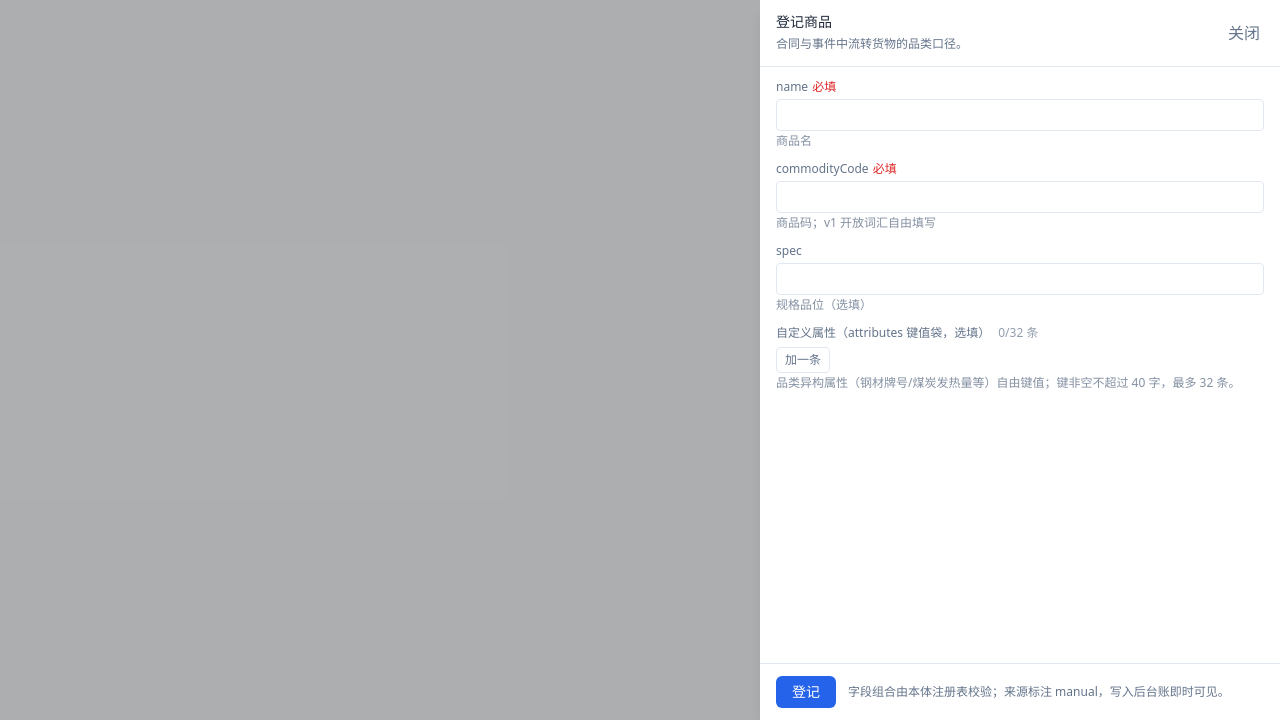
Test: MasterDataDrawer › 自定义属性键值编辑区：增行填键值提交并入 payload.attributes，删行剔除
Type "螺纹钢" into the field named "name必填". click: (1020, 115)
box: x1=776 y1=99 x2=1264 y2=131
Type "HRB400E" into the field named "commodityCode必填". click: (1020, 197)
box: x1=776 y1=181 x2=1264 y2=213
Click the button "加一条". click: click(803, 360)
box: x1=776 y1=347 x2=830 y2=373
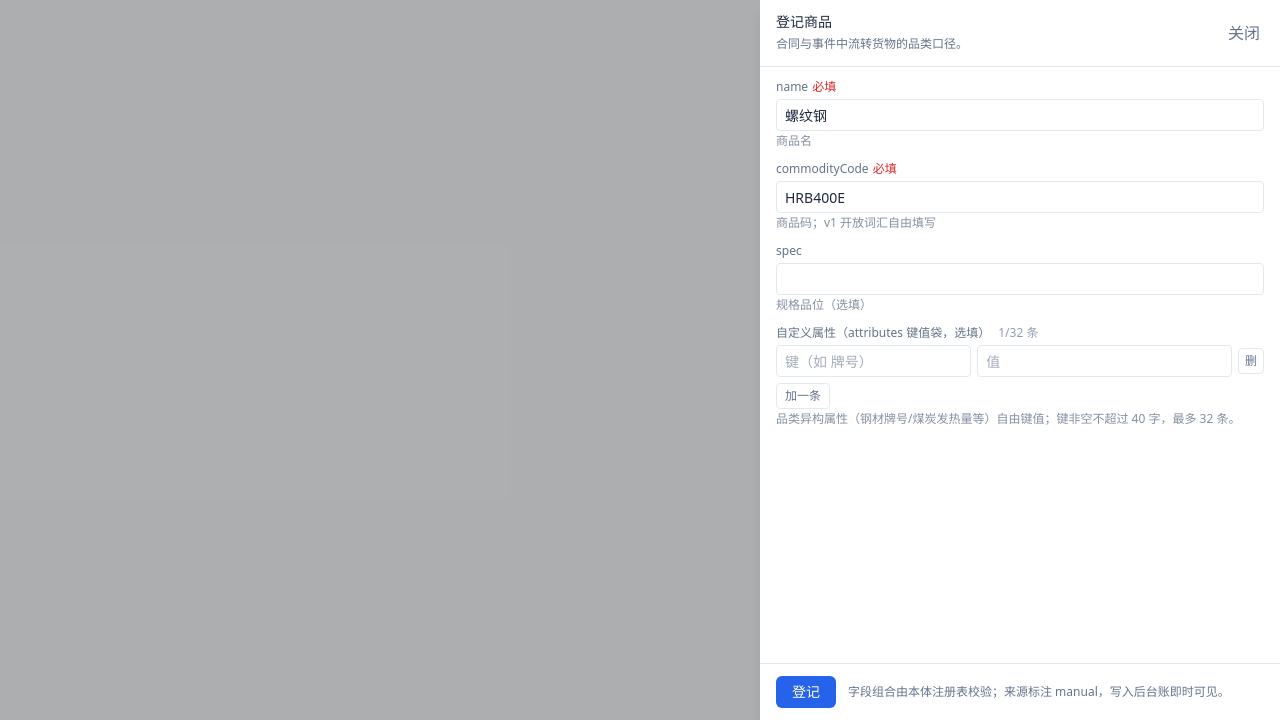
Type "牌号" into the field named "属性键 1". click: (874, 361)
box: x1=776 y1=345 x2=971 y2=377
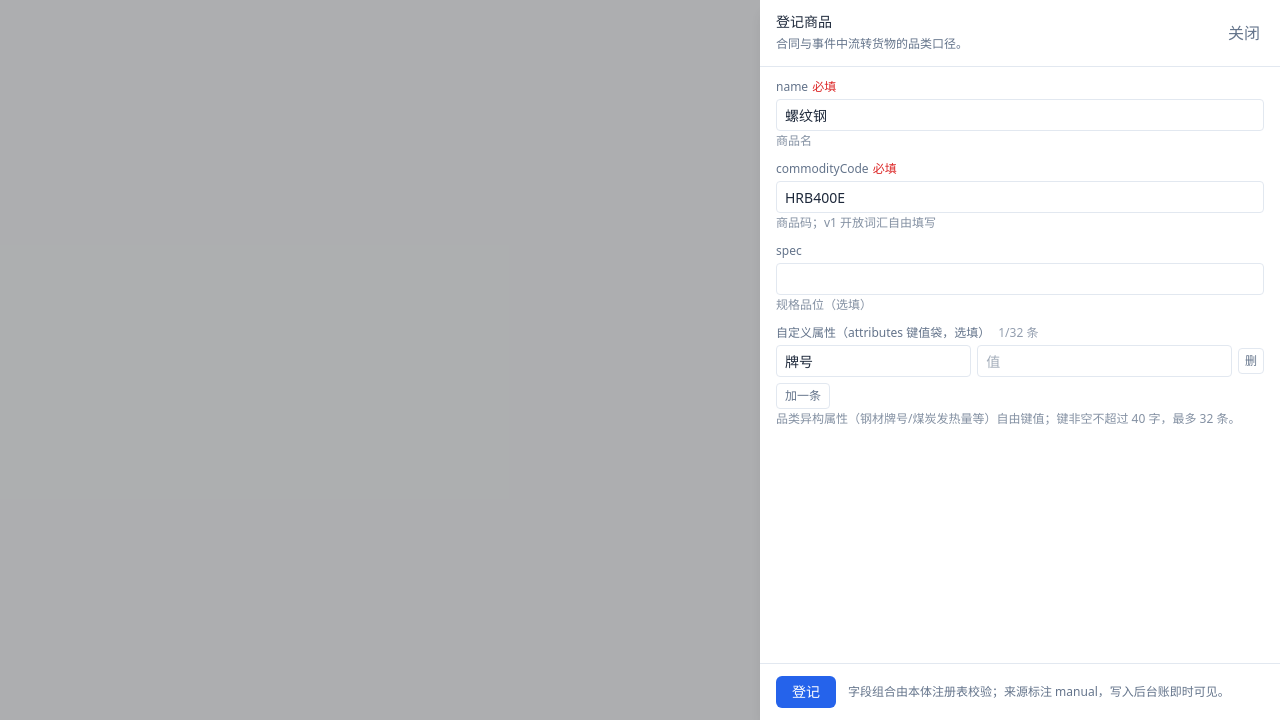
Type "HRB400E" into the field named "属性值 1". click: (1105, 361)
box: x1=977 y1=345 x2=1232 y2=377
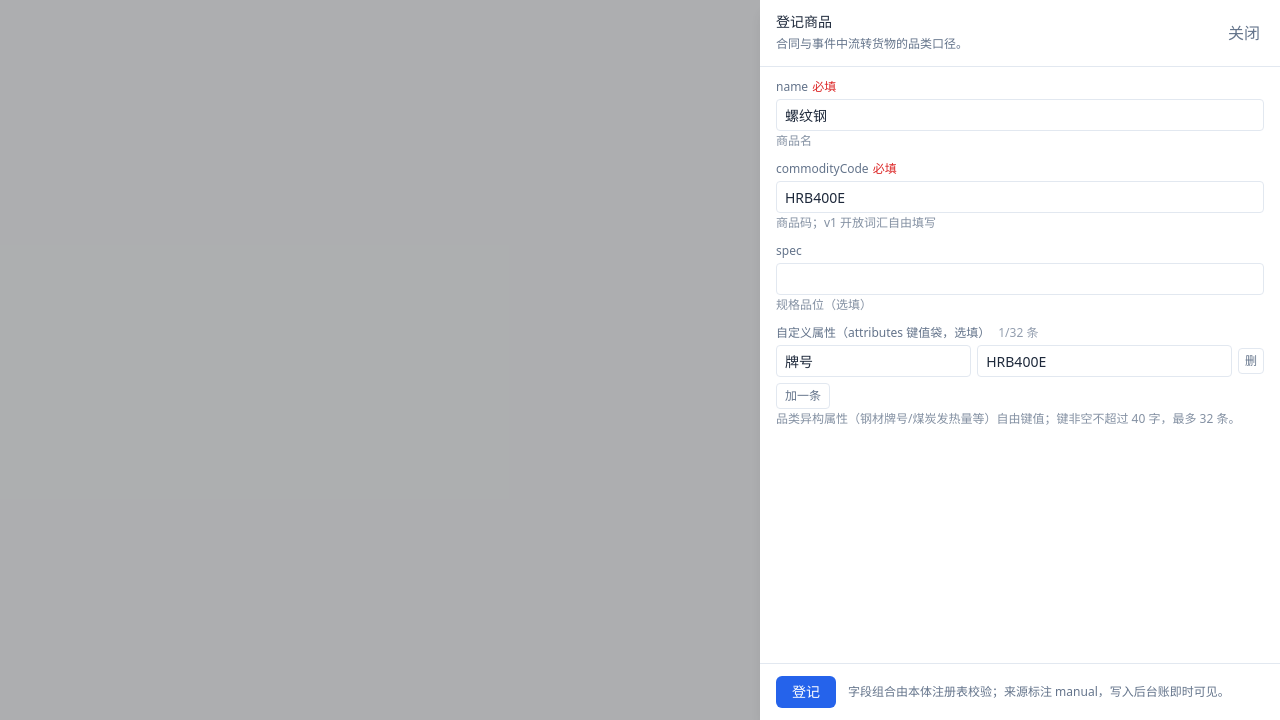
Click the button "加一条". click: click(803, 396)
box: x1=776 y1=383 x2=830 y2=409
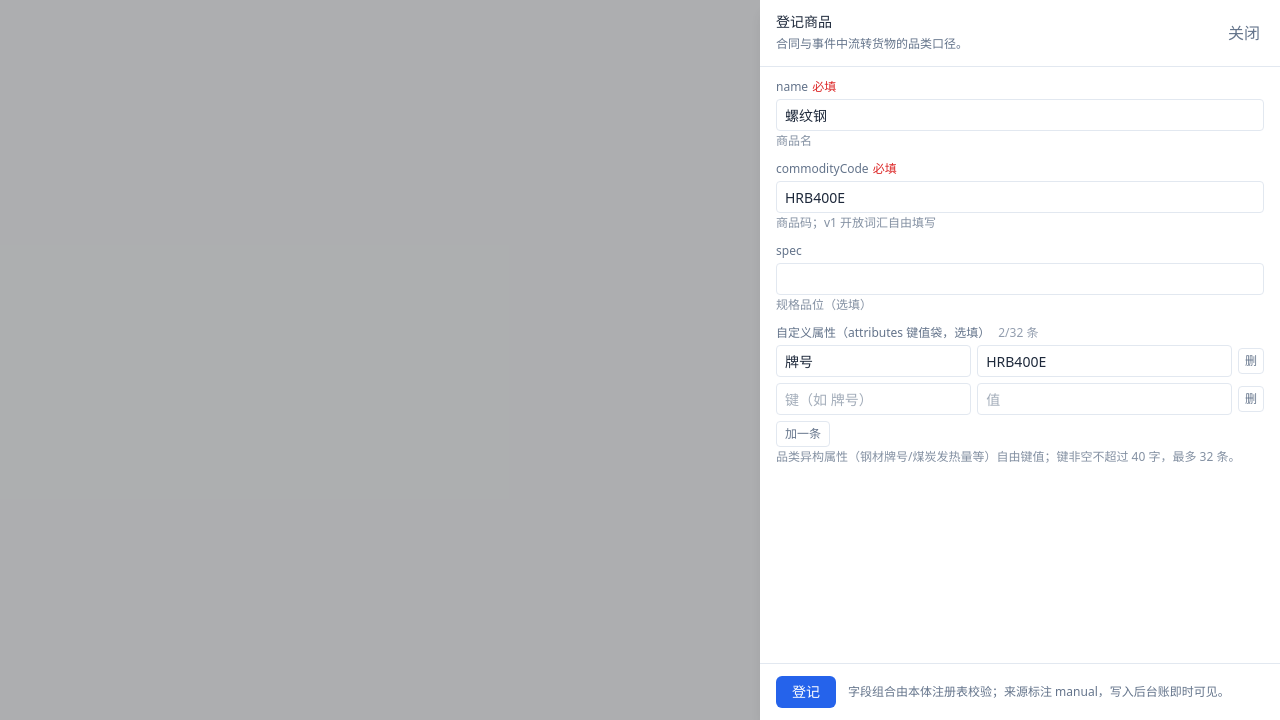
Click the button named "删除属性 2". click: click(1251, 399)
box: x1=1238 y1=386 x2=1264 y2=412
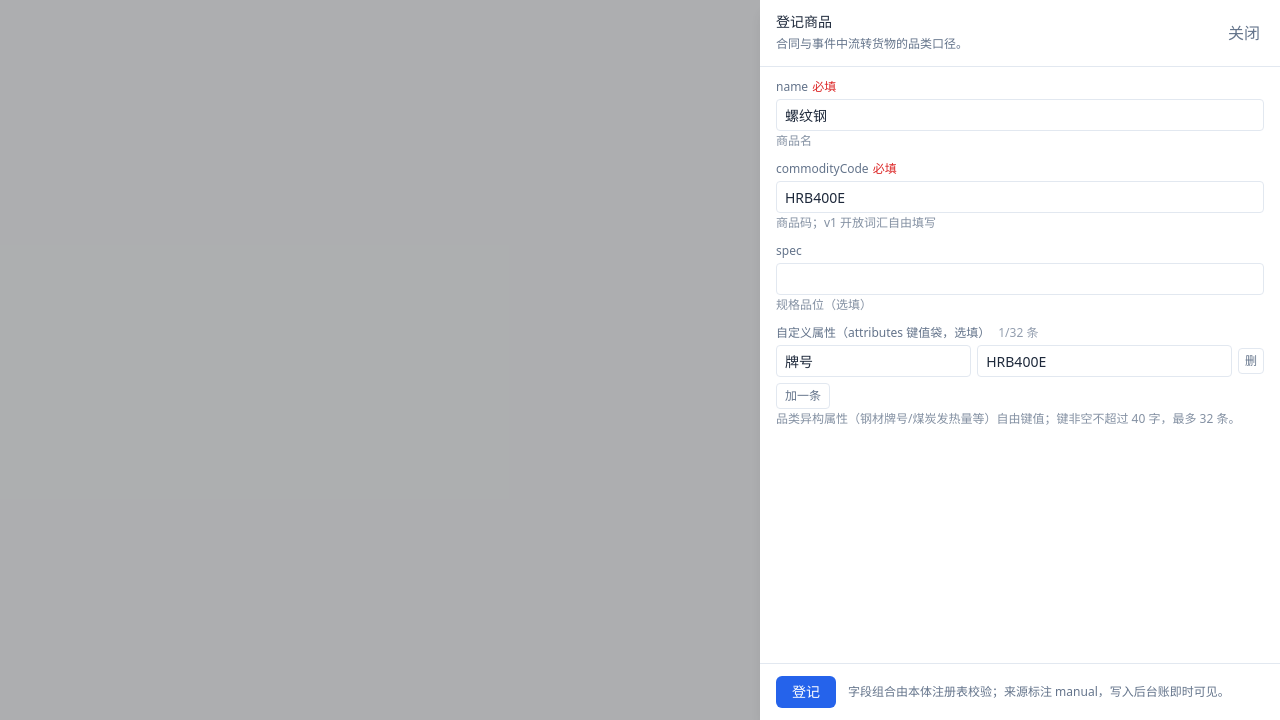
Click the button "登记". click: click(806, 692)
box: x1=776 y1=676 x2=836 y2=708
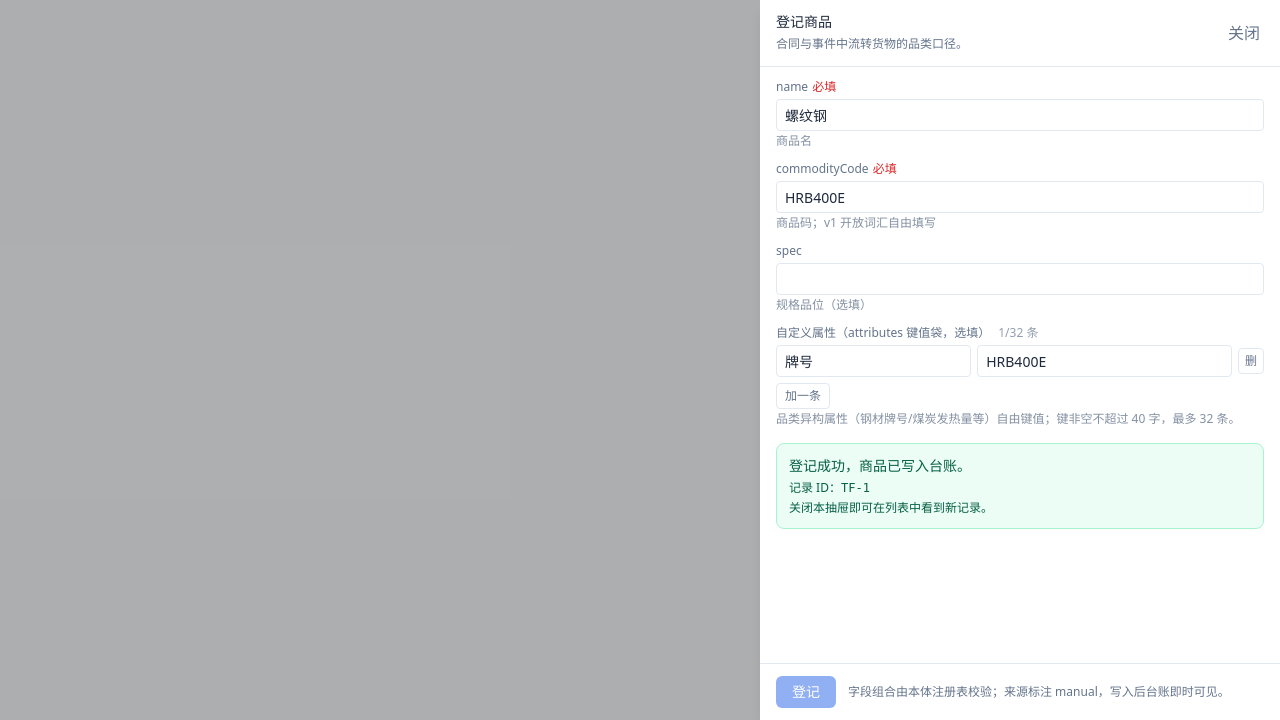
Expected: the text "登记成功，商品已写入台账。" is shown, x1=789 y1=456 x2=971 y2=475
